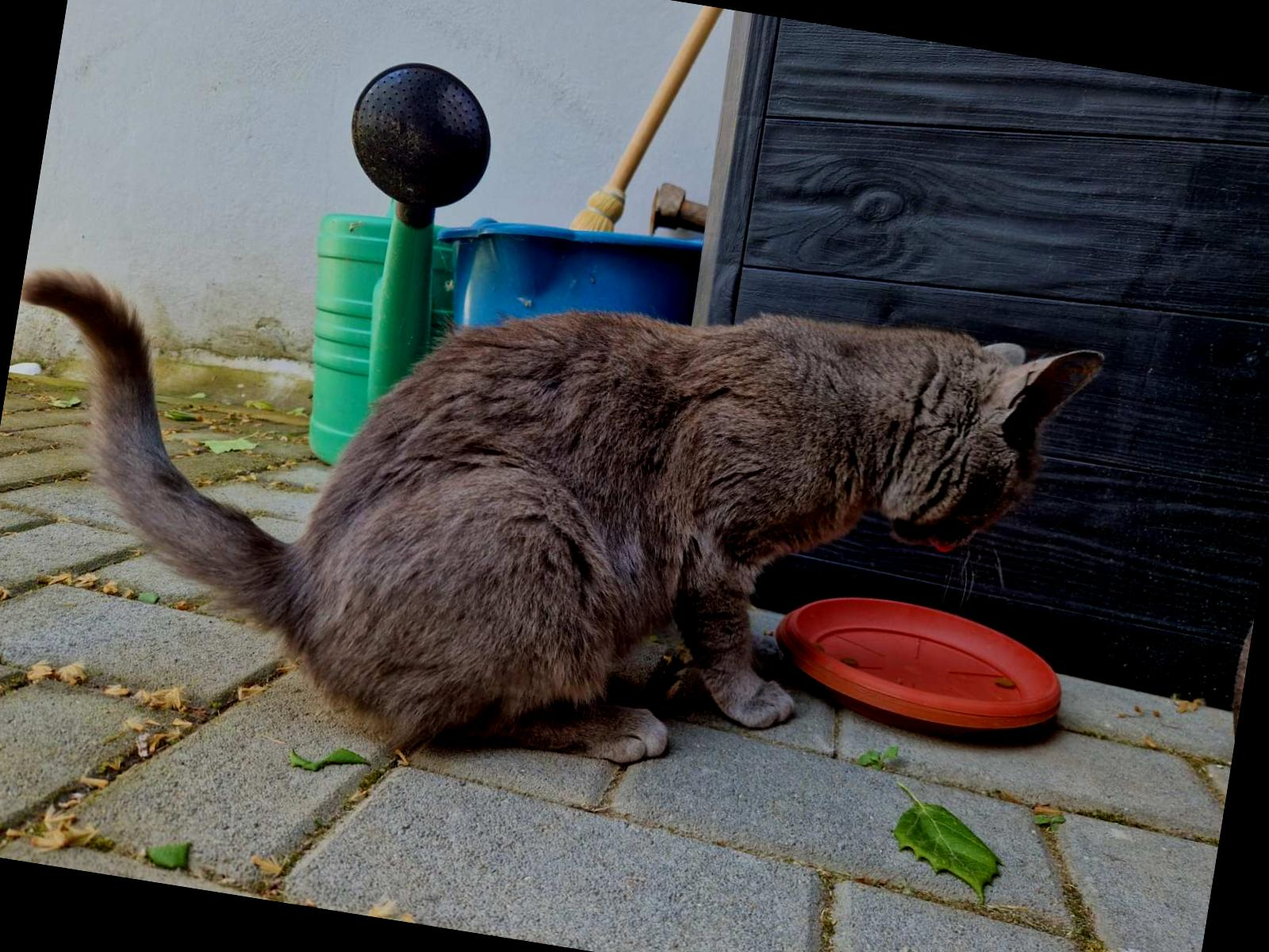macka: (0, 179, 1110, 838)
